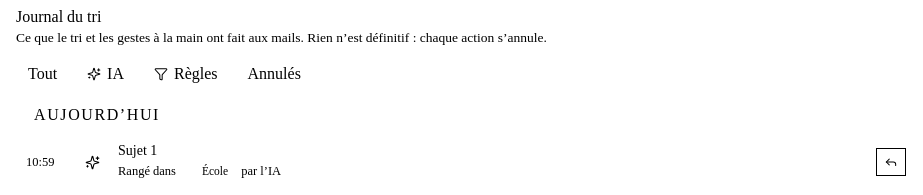
Test: Journal › reads the journal again when the line was already undone elsewhere
Expected: the text "Sujet 1" is shown, [118, 143, 157, 158]
Step 1. Click the button named "Annuler" → click(891, 162), box [876, 148, 906, 176]
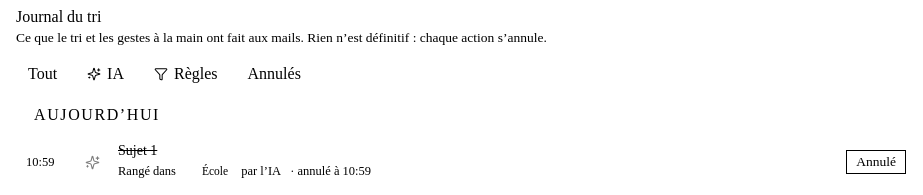
Expected: the list item "Sujet 1" does not show "Action déjà annulée", [26, 143, 906, 178]
Now the list item "Sujet 1" shows "annulé à 10:59", box [287, 164, 371, 178]
